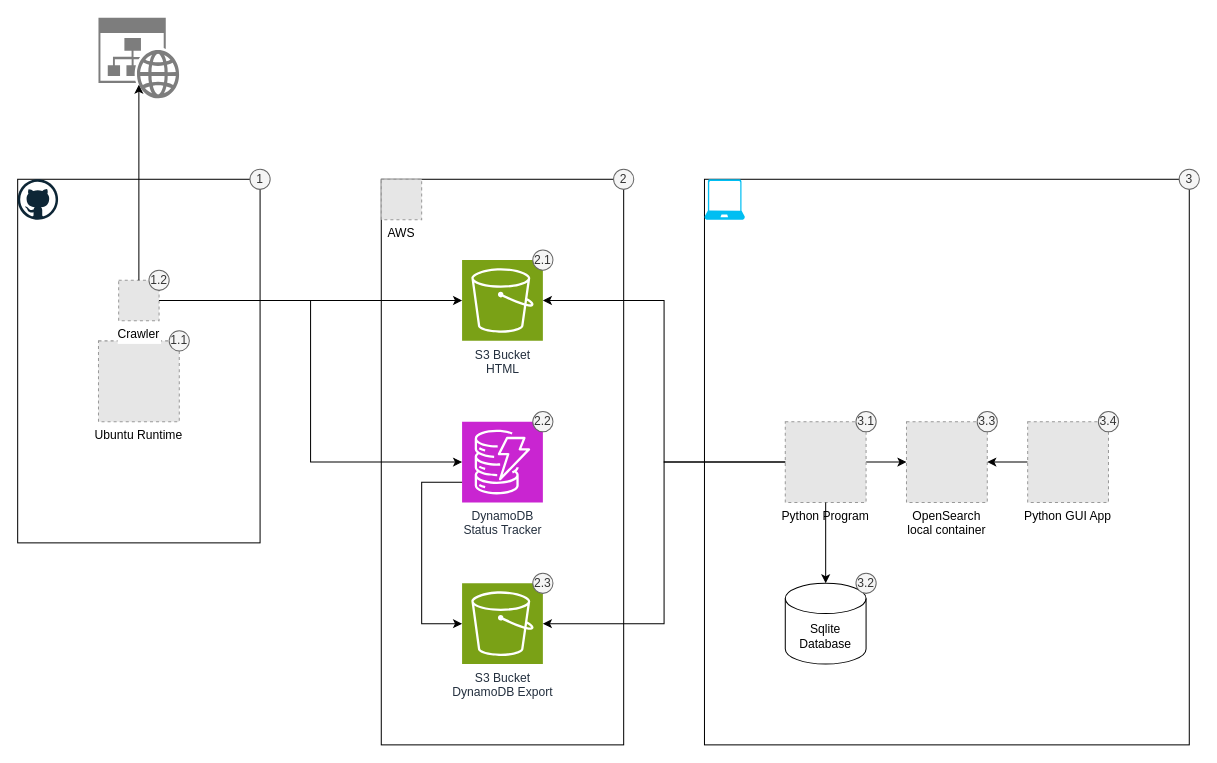
Some shapes in this 1217 by 763 pixel diagram are drawn without their labels. Grey dashed boxes stand in for pictures. The centre of each missing label's shape, as x and y in pixels:
GitHub: (x=37, y=199)
Laptop: (x=724, y=199)
Target Website: (x=138, y=57)
